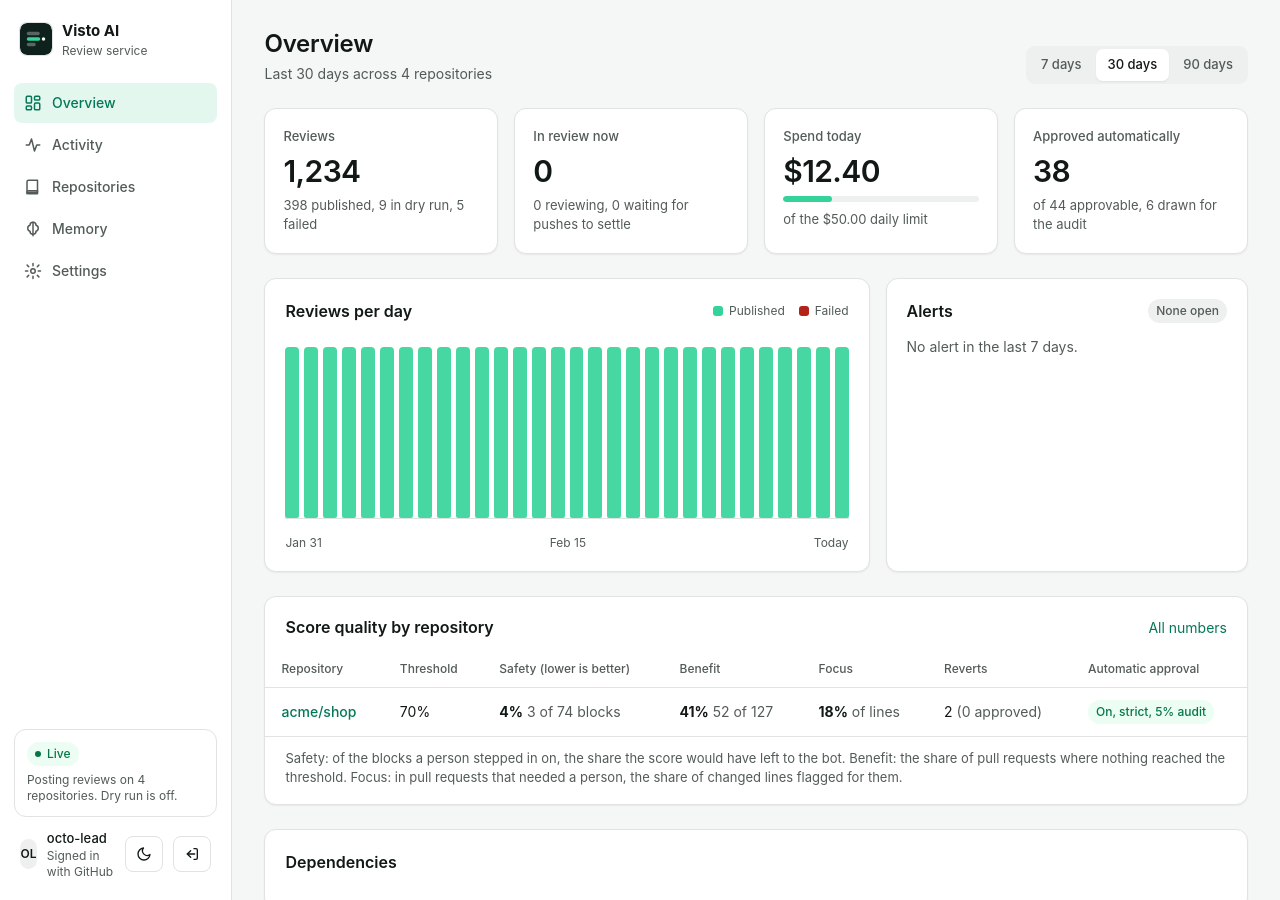
Scenario: the period is sent to the server, and the overview is read again every minute and health every fifteen seconds
Click the button "7 days": (1061, 65) [1029,49,1094,81]
Wait 180000 ms
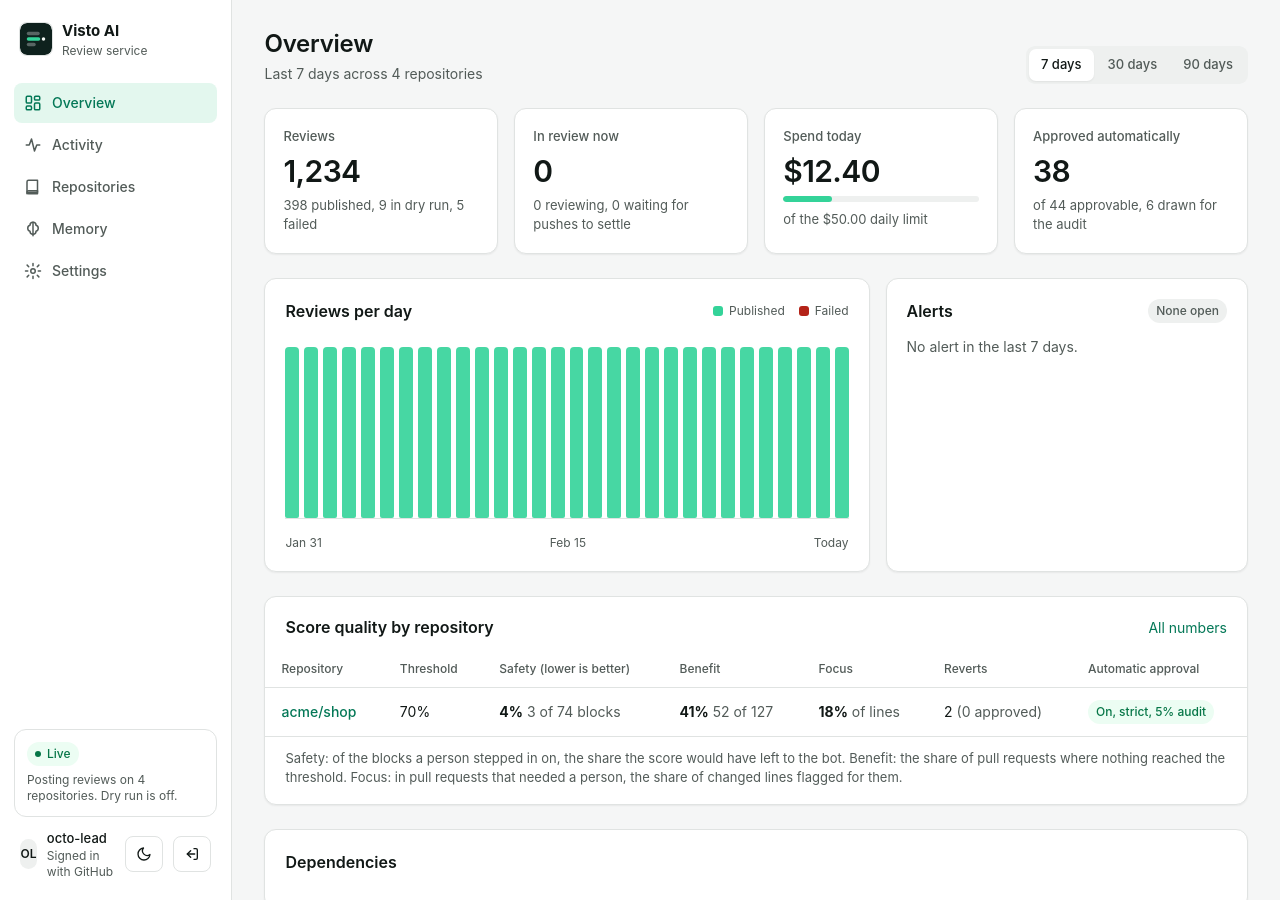
Check: the text "Last 7 days across 4 repositories" is shown, box [264,64,483,84]
